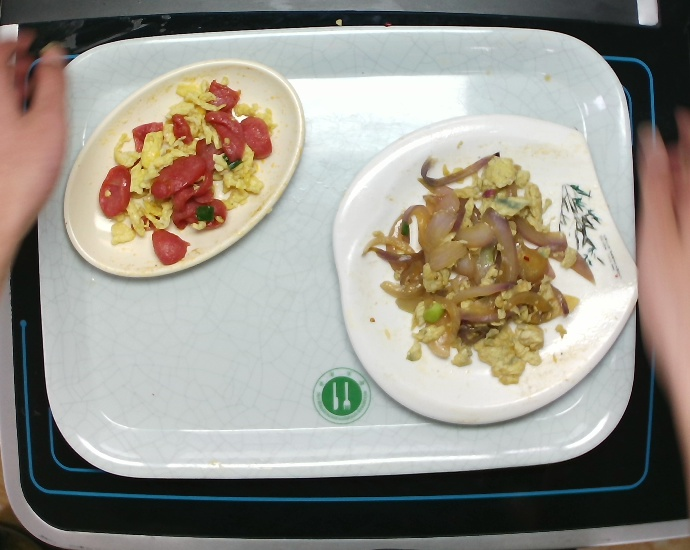JYsf-Mian_Pan: (329, 110, 641, 427)
JYsf-Tuo_Yuan_Wan: (61, 57, 307, 282)
